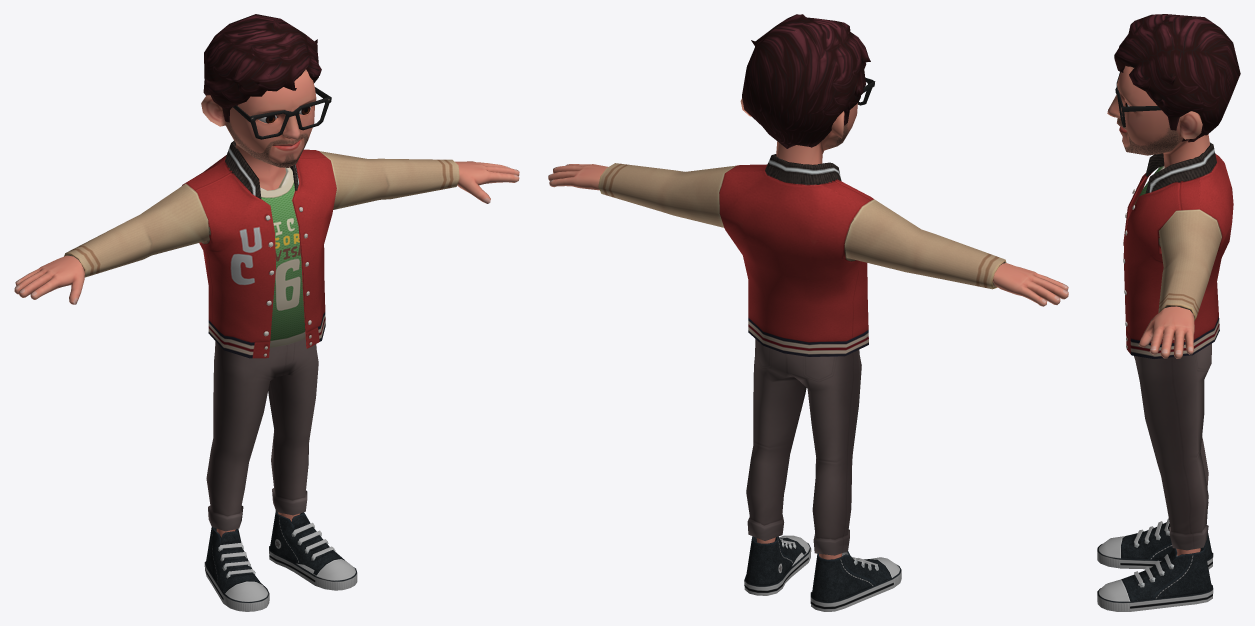
Rendered from Male_LOD_C_Fixed.glb.
The picture shows the model from 3 angles, left to right: view 1: azimuth 30°, elevation 25°; view 2: azimuth 150°, elevation 25°; view 3: azimuth 270°, elevation 25°; orthographic projection. The views are drawn at different scales.
Visible parts, largest first — view 1: Low_Jacket_01_Geo1, Low_Trouser_01_Geo1, Low_Basebody_Geo1, Low_Hair_01_Geo1, Low_TShirt_01_Geo1, Low_L_Shoe_01_Geo1, Low_R_Shoe_01_Geo1, Low_Spec_01_Geo1; view 2: Low_Jacket_01_Geo1, Low_Trouser_01_Geo1, Low_Hair_01_Geo1, Low_Basebody_Geo1, Low_R_Shoe_01_Geo1, Low_L_Shoe_01_Geo1; view 3: Low_Jacket_01_Geo1, Low_Trouser_01_Geo1, Low_Hair_01_Geo1, Low_Basebody_Geo1, Low_L_Shoe_01_Geo1, Low_R_Shoe_01_Geo1, Low_Spec_01_Geo1.
Boxes of the visible parts, <box> form: Low_Jacket_01_Geo1: <box>64,140,459,358</box>; Low_Trouser_01_Geo1: <box>206,338,318,531</box>; Low_Basebody_Geo1: <box>14,69,519,537</box>; Low_Hair_01_Geo1: <box>203,14,321,122</box>; Low_TShirt_01_Geo1: <box>260,167,305,347</box>; Low_L_Shoe_01_Geo1: <box>269,510,357,590</box>; Low_R_Shoe_01_Geo1: <box>204,527,269,611</box>; Low_Spec_01_Geo1: <box>232,87,331,139</box>; Low_Jacket_01_Geo1: <box>598,154,1006,356</box>; Low_Trouser_01_Geo1: <box>746,339,861,555</box>; Low_Hair_01_Geo1: <box>742,14,870,148</box>; Low_Basebody_Geo1: <box>548,98,1068,559</box>; Low_R_Shoe_01_Geo1: <box>810,551,901,611</box>; Low_L_Shoe_01_Geo1: <box>744,535,811,595</box>; Low_Jacket_01_Geo1: <box>1123,142,1233,358</box>; Low_Trouser_01_Geo1: <box>1134,343,1211,550</box>; Low_Hair_01_Geo1: <box>1114,14,1240,142</box>; Low_Basebody_Geo1: <box>1107,66,1209,555</box>; Low_L_Shoe_01_Geo1: <box>1097,547,1213,611</box>; Low_R_Shoe_01_Geo1: <box>1097,518,1213,569</box>; Low_Spec_01_Geo1: <box>1115,72,1161,127</box>.
Size of what is drawn, in the model's own units: 1.69 by 1.8 by 0.4126.
Materials: 9 (9 with a texture image).
